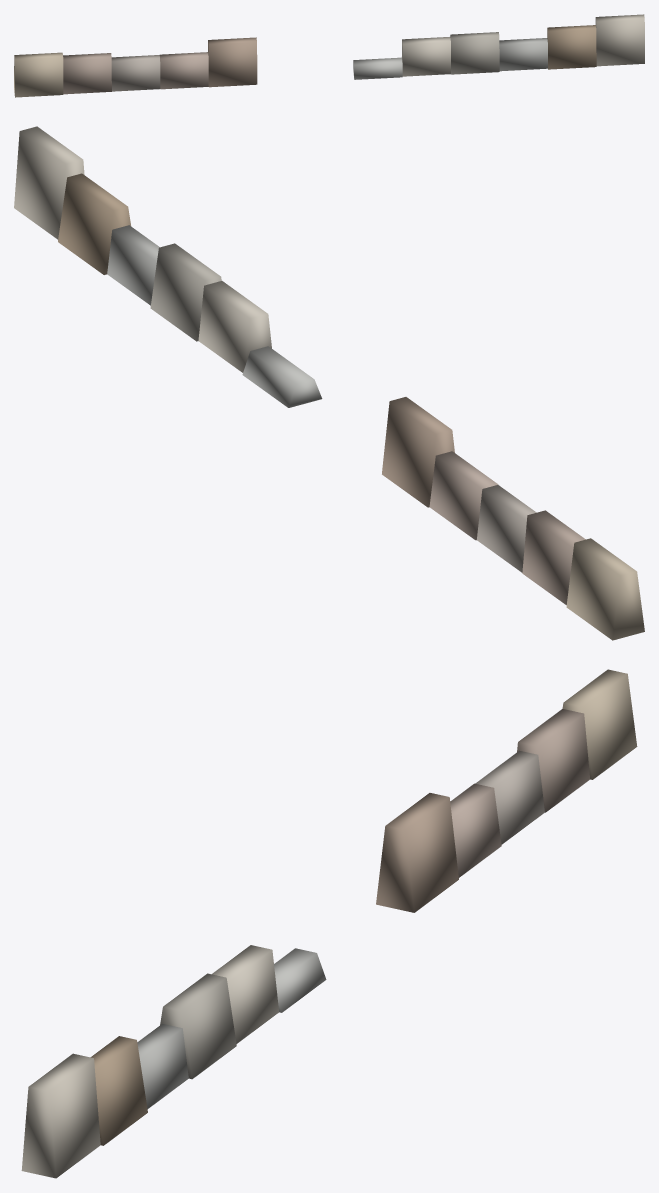
File: farm_-1_-3_collision.glb
The picture shows the model from 3 angles, top to bottom: view 1: azimuth 30°, elevation 25°; view 2: azimuth 150°, elevation 25°; view 3: azimuth 270°, elevation 25°; orthographic projection. The views are drawn at different scales.
Parts seen in each view (by area): view 1: geometry_0; view 2: geometry_0; view 3: geometry_0.
Part boxes in pixels (x1,y1,x2,y2): geometry_0: (14,14,644,97); geometry_0: (14,126,644,640); geometry_0: (21,669,637,1178).
Size of the model in its own units: 18.64 by 2.29 by 10.07.
